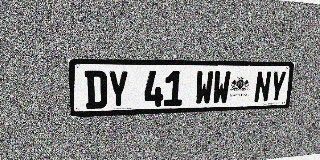1: (164, 71, 183, 106)
4: (144, 71, 164, 107)
D: (84, 70, 107, 109)
N: (253, 71, 272, 103)
W: (194, 71, 214, 105), (212, 71, 231, 104)
Y: (107, 70, 128, 108), (268, 71, 287, 102)
